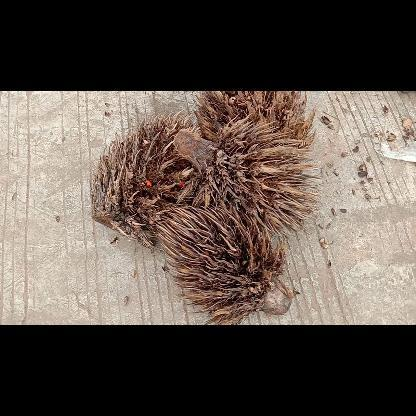Janjang kosong: (174, 117, 318, 237), (87, 112, 204, 252), (153, 209, 295, 323), (194, 92, 314, 150)
